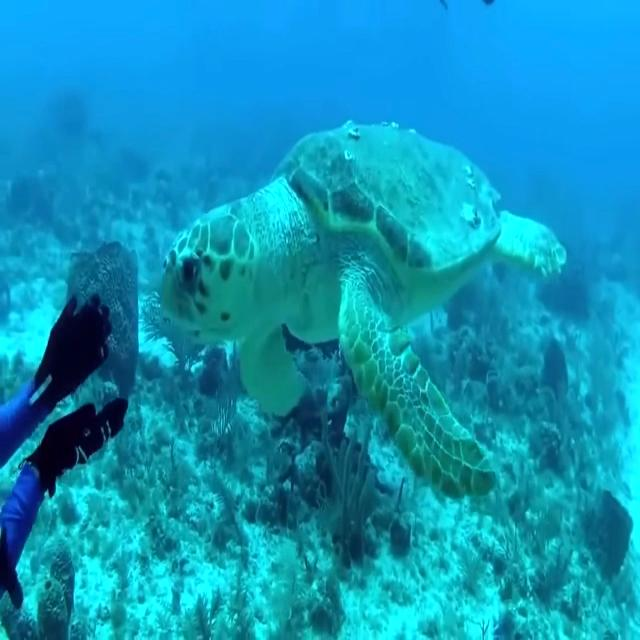Sea turtle: (159, 124, 569, 505)
